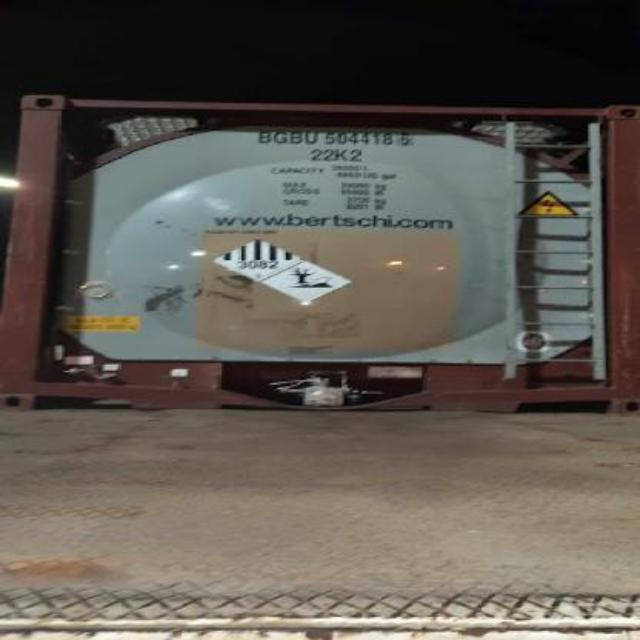0: (336, 132, 348, 144)
1: (372, 132, 382, 144)
4: (346, 132, 359, 144), (360, 132, 372, 144)
5: (324, 132, 338, 144)
6: (398, 132, 412, 144)
8: (382, 132, 396, 144)
B: (290, 130, 306, 144), (258, 130, 272, 144)
G: (272, 132, 292, 144)
U: (304, 130, 320, 144)
